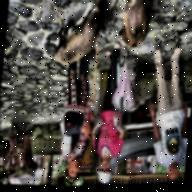boar: (53, 0, 111, 71), (111, 0, 158, 58)
